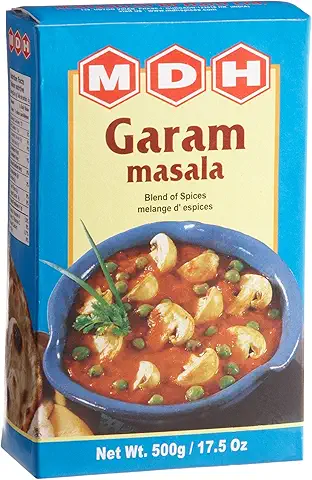Garamasala: (6, 7, 312, 480)
